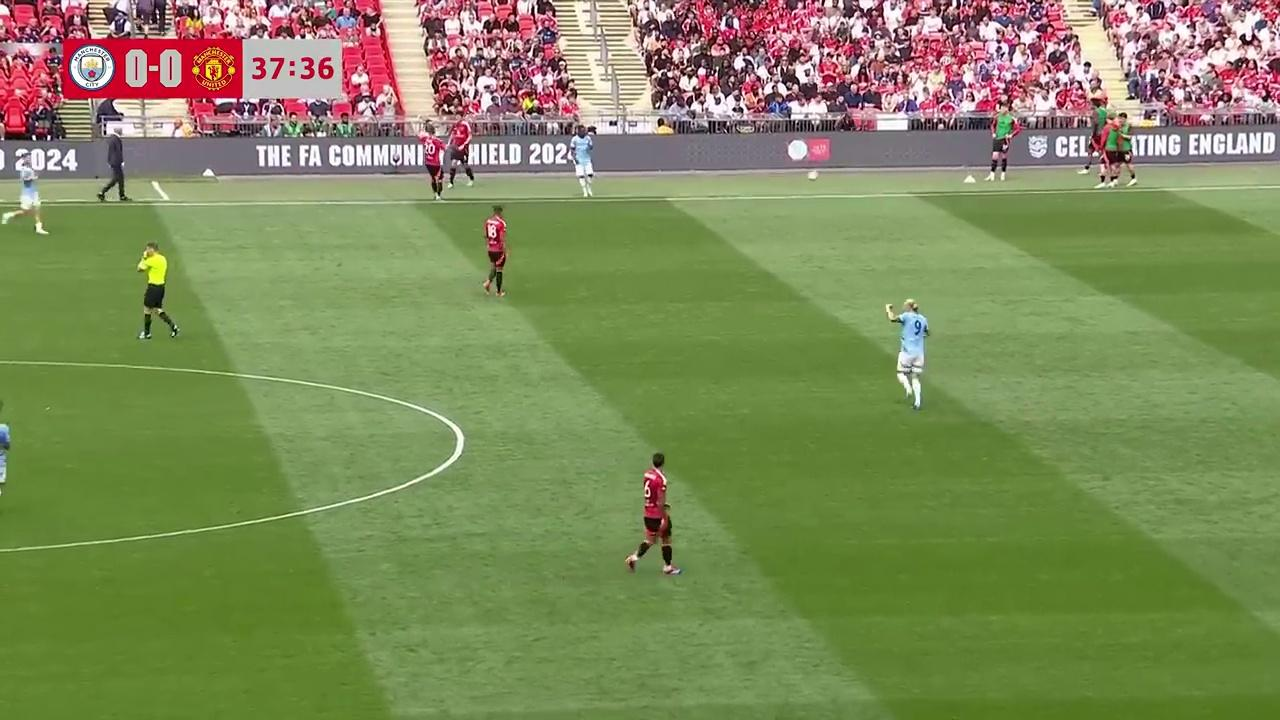player: (625, 453, 681, 577), (886, 299, 930, 410), (1, 153, 49, 235), (483, 206, 508, 298), (420, 121, 446, 200), (572, 126, 595, 198), (447, 129, 472, 193), (0, 409, 11, 502)
referee: (136, 241, 178, 339)
